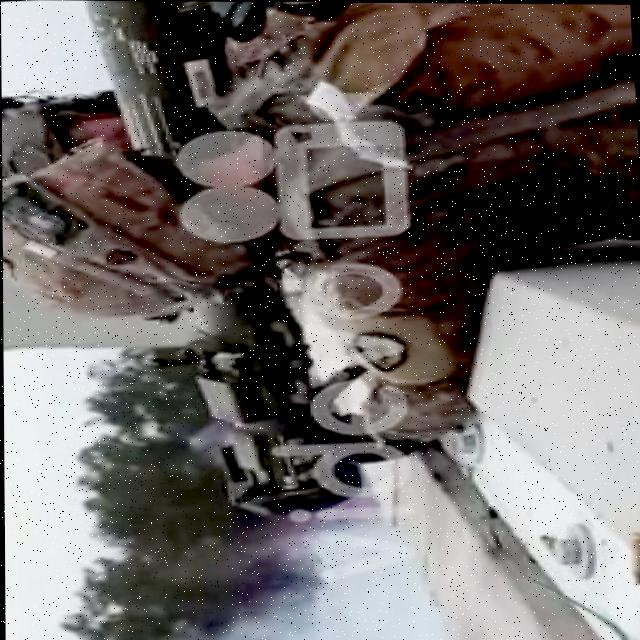rocket: (86, 1, 337, 526)
